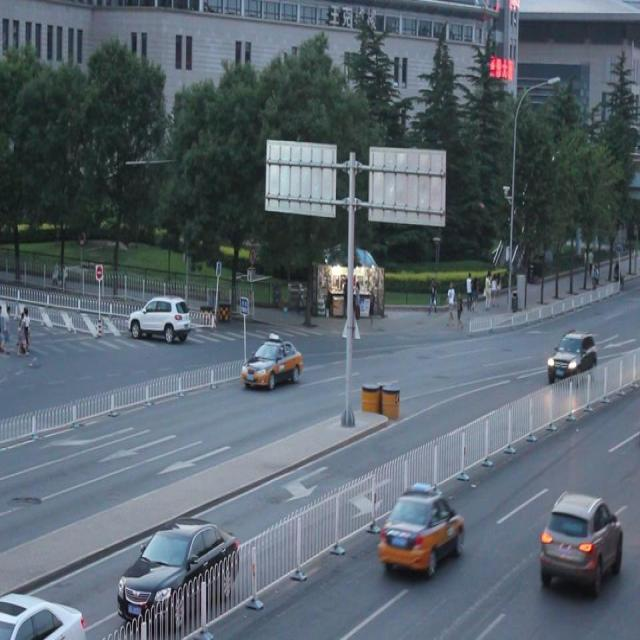car: (116, 521, 238, 626), (537, 488, 623, 589), (379, 484, 463, 572), (1, 588, 85, 640), (242, 332, 302, 390), (128, 296, 192, 344), (545, 329, 596, 377)
